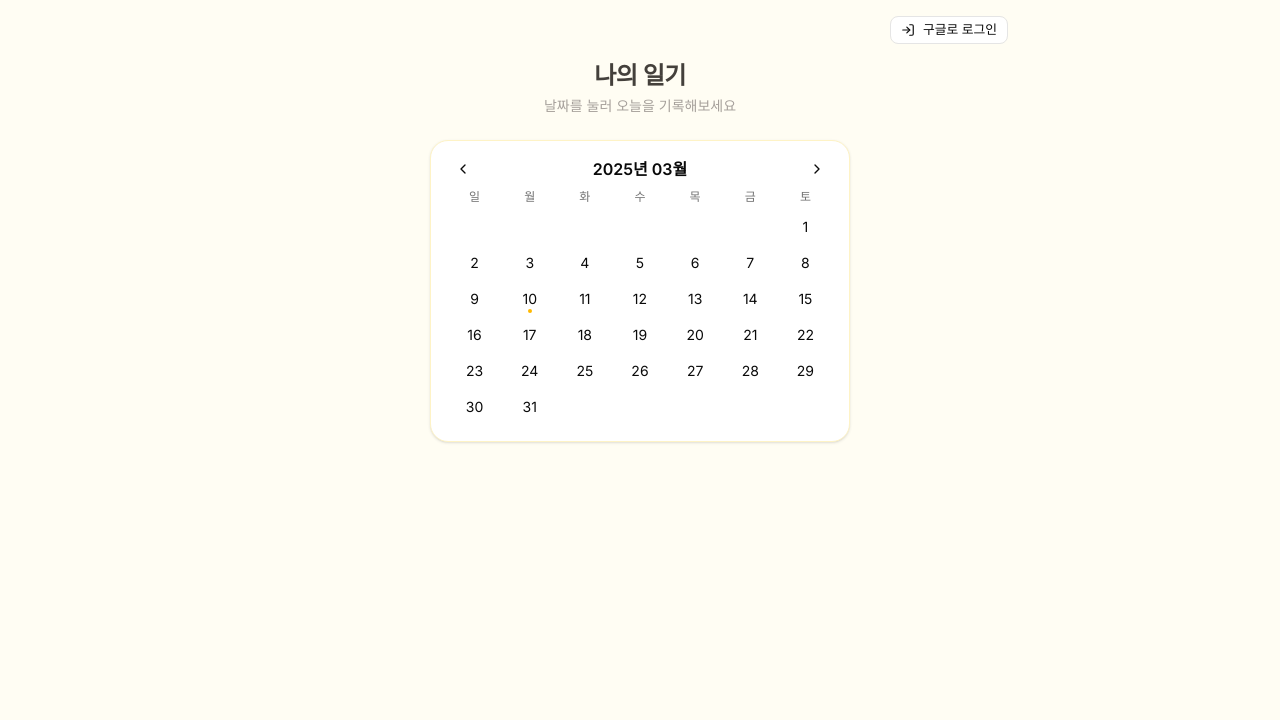
Test case: DIARY-009: 기존 일기 삭제 › 일기 화면에서 삭제 버튼을 클릭하고 확인하면 캘린더로 돌아오고 dot 표시가 사라진다
Expected: the element with test id "diary-dot-2025-03-10" is shown, x1=528 y1=309 x2=532 y2=313
2025-03-10 클릭하여 일기 화면 진입
Click the button "10" at (530, 299), box x1=514 y1=283 x2=546 y2=315
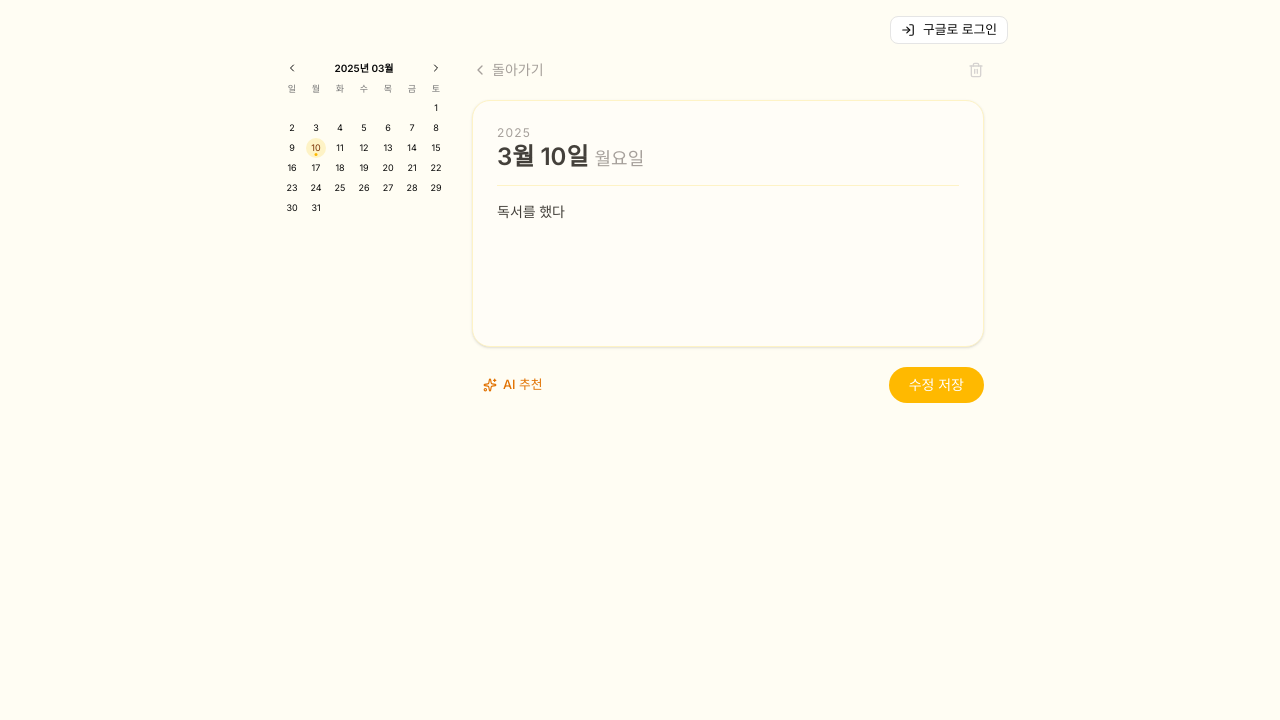
삭제 버튼 클릭
Click the button named "삭제" at (976, 70), box x1=968 y1=62 x2=984 y2=78
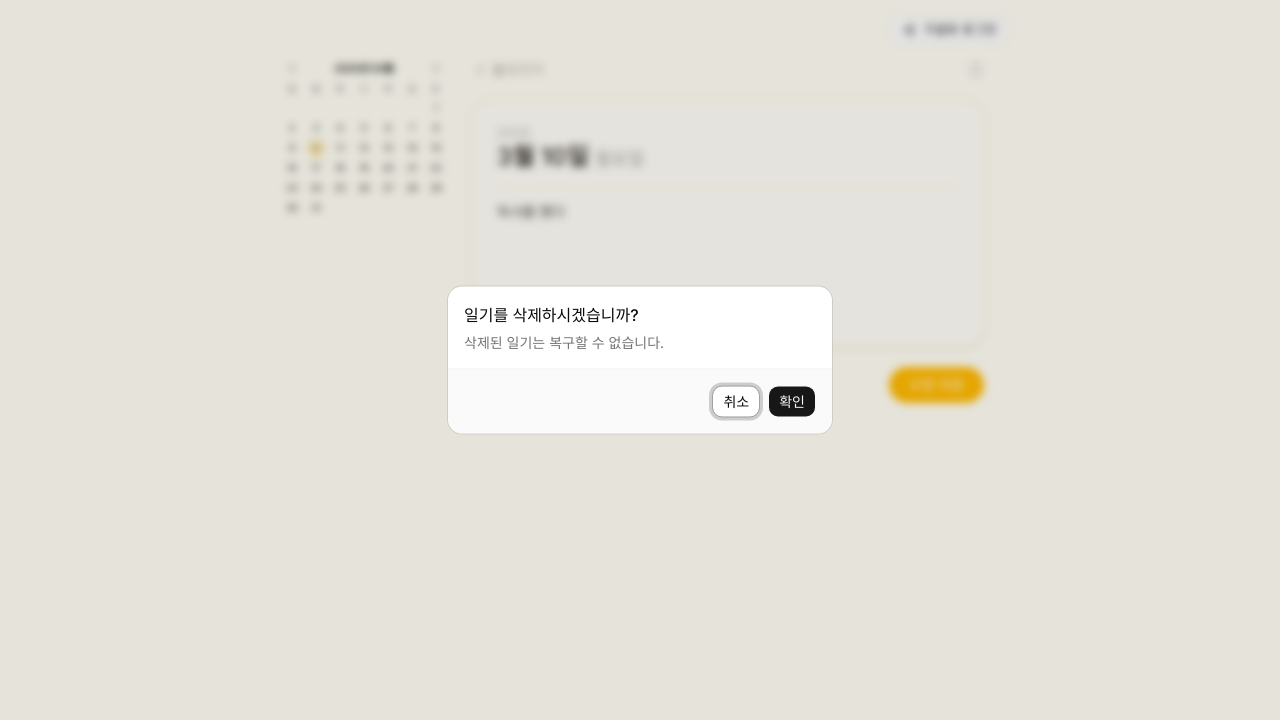
확인 다이얼로그에서 확인 클릭
Click the button "확인" at (792, 402), box x1=768 y1=386 x2=816 y2=418
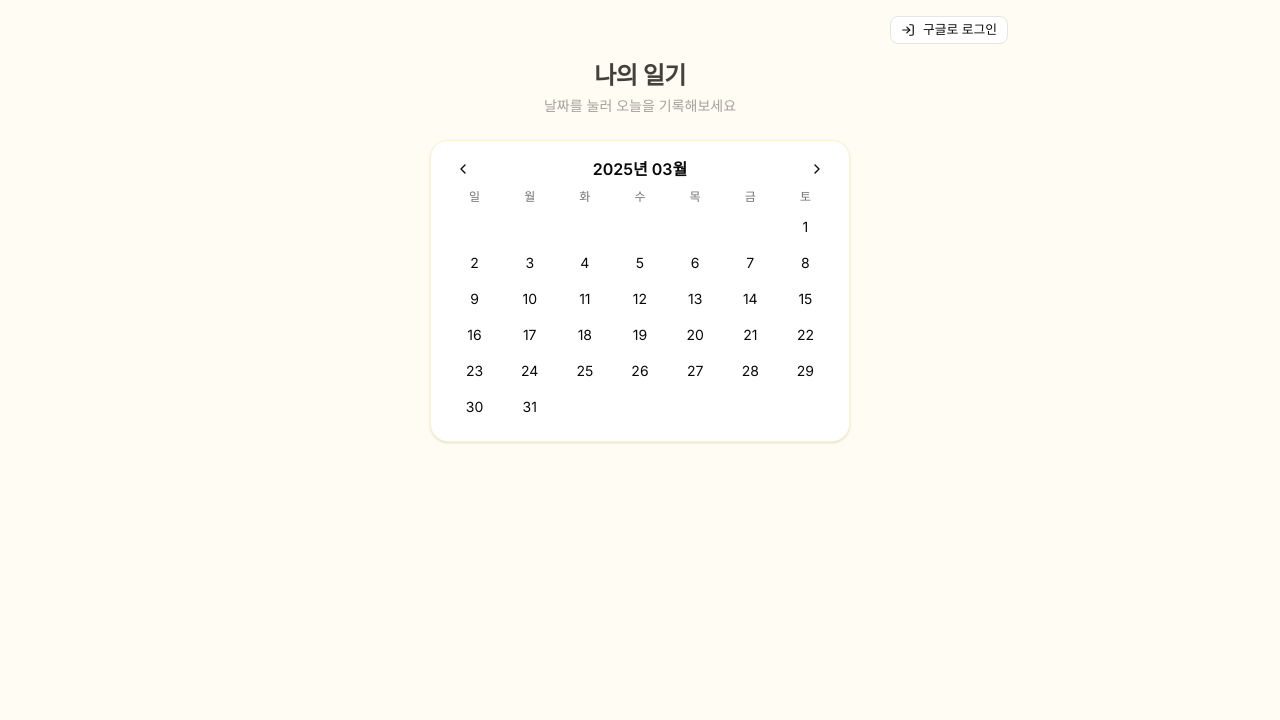
Now the element with test id "diary-dot-2025-03-10" is gone
